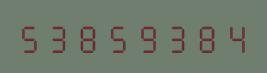eight: (75, 20, 103, 53), (191, 20, 219, 53)
five: (17, 20, 45, 53), (104, 20, 132, 53)
four: (220, 20, 248, 53)
nine: (133, 20, 161, 53)
three: (46, 20, 74, 53), (162, 20, 190, 53)
